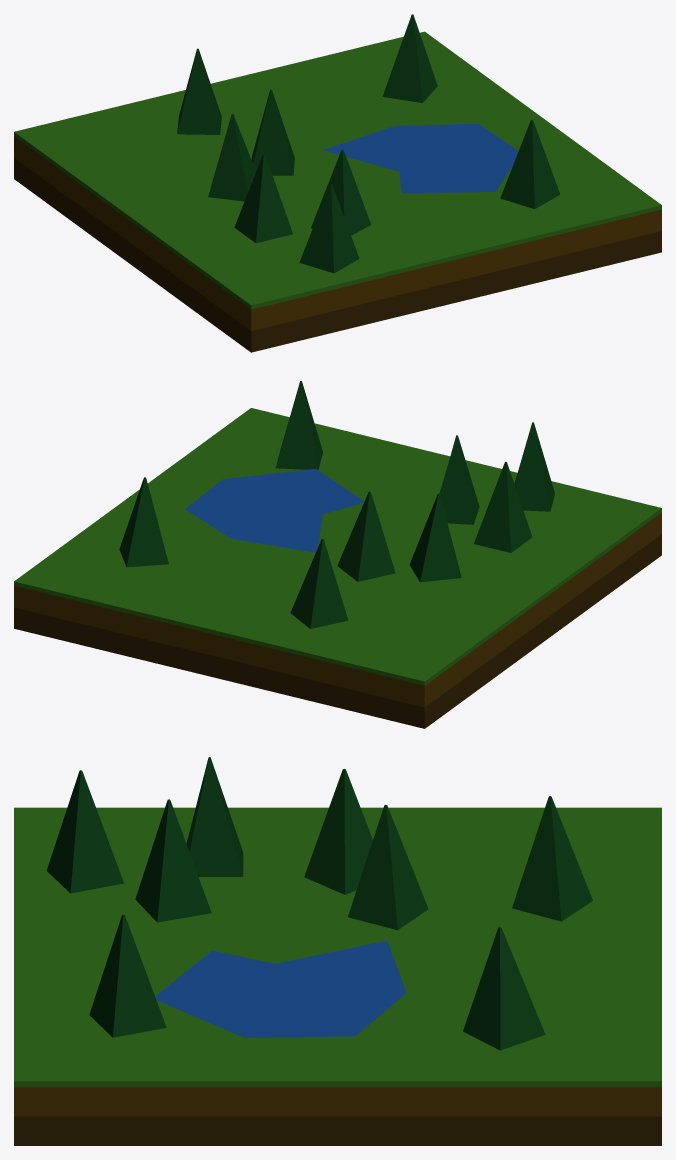
The model's file is splineForest2.glb.
3 views of the same model, one above another, from view 1: azimuth 30°, elevation 25°; view 2: azimuth 150°, elevation 25°; view 3: azimuth 270°, elevation 25° (orthographic). The views are drawn at different scales.
Parts seen in each view (by area): view 1: TopLayer, MiddleLayer, BottomLayer, Shape, Tree1 4, Tree1 9, Tree1, Tree1 3, Tree1 8, Tree1 5, Tree1 2, Tree1 7; view 2: TopLayer, MiddleLayer, BottomLayer, Shape, Tree1, Tree1 2, Tree1 5, Tree1 8, Tree1 3, Tree1 4, Tree1 9, Tree1 7; view 3: TopLayer, MiddleLayer, BottomLayer, Shape, Tree1 5, Tree1 2, Tree1 3, Tree1 9, Tree1 4, Tree1 7, Tree1 8, Tree1.
Boxes of the visible parts, left/top/right/bottom form: TopLayer: left=14, top=31, right=661, bottom=309; MiddleLayer: left=14, top=136, right=661, bottom=330; BottomLayer: left=14, top=158, right=661, bottom=352; Shape: left=323, top=123, right=518, bottom=193; Tree1 4: left=500, top=119, right=560, bottom=208; Tree1 9: left=299, top=184, right=359, bottom=273; Tree1: left=234, top=154, right=292, bottom=243; Tree1 3: left=382, top=14, right=437, bottom=102; Tree1 8: left=208, top=114, right=255, bottom=201; Tree1 5: left=177, top=48, right=221, bottom=134; Tree1 2: left=251, top=89, right=294, bottom=175; Tree1 7: left=311, top=149, right=370, bottom=235; TopLayer: left=14, top=408, right=661, bottom=685; MiddleLayer: left=14, top=512, right=661, bottom=707; BottomLayer: left=14, top=534, right=661, bottom=728; Shape: left=185, top=469, right=364, bottom=552; Tree1: left=474, top=461, right=532, bottom=552; Tree1 2: left=337, top=491, right=395, bottom=581; Tree1 5: left=290, top=538, right=348, bottom=628; Tree1 8: left=409, top=493, right=461, bottom=582; Tree1 3: left=119, top=477, right=168, bottom=567; Tree1 4: left=275, top=381, right=322, bottom=469; Tree1 9: left=514, top=422, right=554, bottom=511; Tree1 7: left=439, top=435, right=479, bottom=524; TopLayer: left=14, top=807, right=661, bottom=1087; MiddleLayer: left=14, top=1087, right=661, bottom=1116; BottomLayer: left=14, top=1116, right=661, bottom=1145; Shape: left=155, top=940, right=406, bottom=1037; Tree1 5: left=512, top=796, right=592, bottom=921; Tree1 2: left=348, top=804, right=428, bottom=930; Tree1 3: left=463, top=926, right=545, bottom=1050; Tree1 9: left=46, top=770, right=123, bottom=893; Tree1 4: left=89, top=914, right=166, bottom=1037; Tree1 7: left=135, top=799, right=211, bottom=922; Tree1 8: left=304, top=769, right=372, bottom=894; Tree1: left=186, top=757, right=243, bottom=876.
Bounding box in the file's own units: 1 × 0.2909 × 1.
